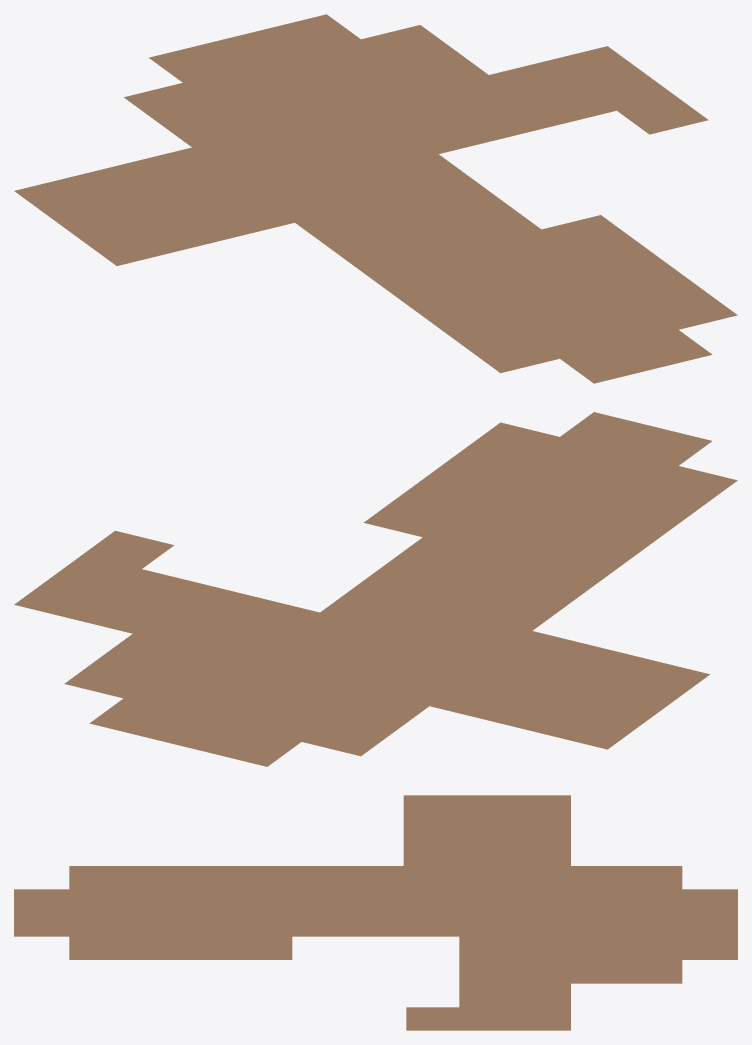
The model's file is N06_Piso_SalaComedor.fbx.
3 views of the same model, one above another, from view 1: azimuth 30°, elevation 25°; view 2: azimuth 150°, elevation 25°; view 3: azimuth 270°, elevation 25° (orthographic). The views are drawn at different scales.
Parts seen in each view (by area): view 1: N06_Piso_SalaComedor; view 2: N06_Piso_SalaComedor; view 3: N06_Piso_SalaComedor.
Part boxes in pixels (x1,y1,x2,y2): N06_Piso_SalaComedor: (14, 14, 737, 383); N06_Piso_SalaComedor: (14, 412, 737, 766); N06_Piso_SalaComedor: (14, 795, 737, 1030).
Size of the model in its own units: 1000 by 0.000212 by 1299.
Materials: 1 (1 with a texture image).
